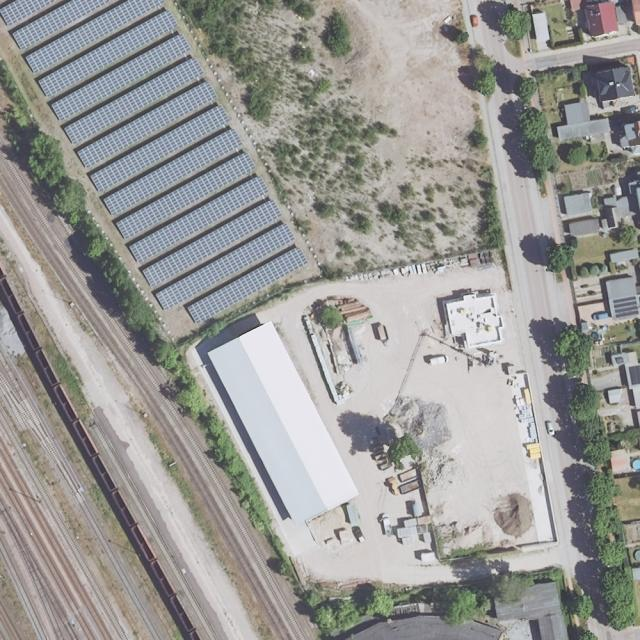PV: (140, 199, 283, 288), (116, 151, 257, 241), (155, 223, 296, 312), (63, 57, 205, 145), (76, 79, 216, 168), (88, 105, 228, 193), (129, 175, 269, 263), (51, 35, 192, 122), (102, 129, 242, 216), (37, 14, 179, 95), (24, 0, 163, 75), (187, 246, 309, 325), (14, 0, 112, 48), (2, 0, 54, 23), (613, 296, 639, 317), (629, 366, 640, 387)
